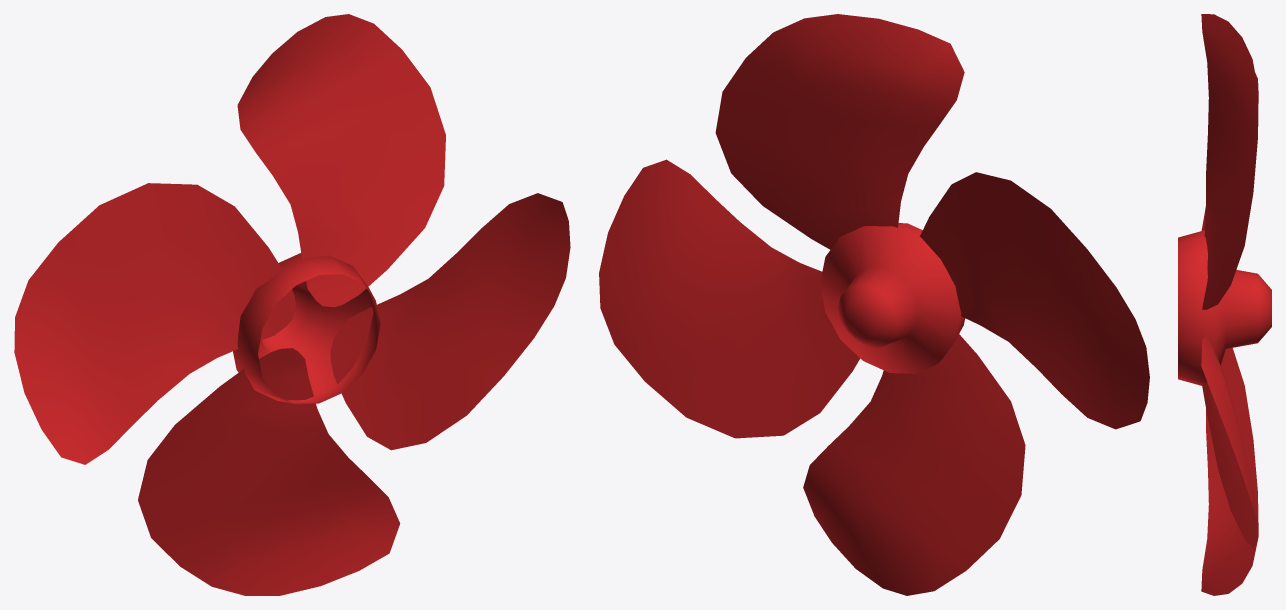
Rendered from SNWP_MOD_BUN_Ventilator_blades.fbx.
3 views of the same model, side by side, from view 1: azimuth 30°, elevation 25°; view 2: azimuth 150°, elevation 25°; view 3: azimuth 270°, elevation 25° (orthographic).
Visible parts, largest first — view 1: SNWP_MOD_Ventilator_blades; view 2: SNWP_MOD_Ventilator_blades; view 3: SNWP_MOD_Ventilator_blades.
Part boxes in pixels (x1,y1,x2,y2): SNWP_MOD_Ventilator_blades: (14,14,570,595); SNWP_MOD_Ventilator_blades: (599,14,1149,595); SNWP_MOD_Ventilator_blades: (1178,14,1271,595).
Size of the model in its own units: 0.4659 by 0.4583 by 0.0686.
